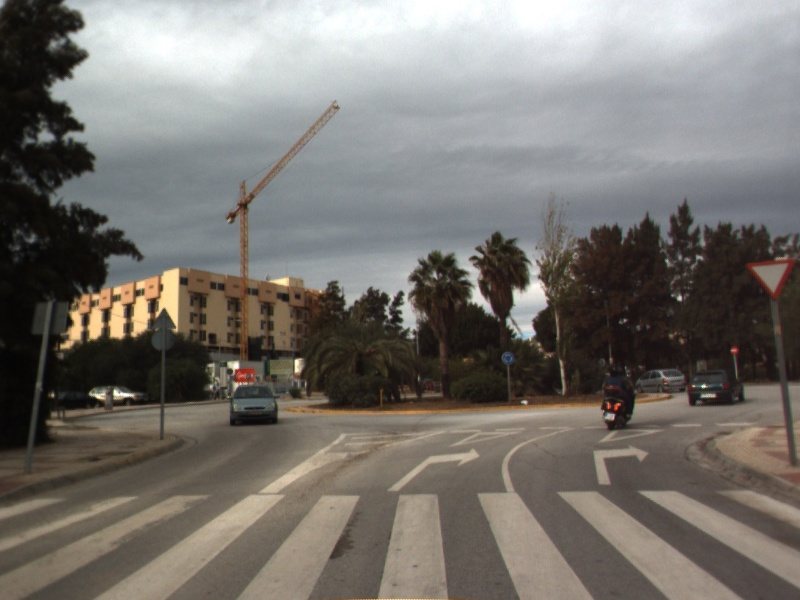RIGHT: (384, 446, 482, 493), (591, 442, 651, 487)
